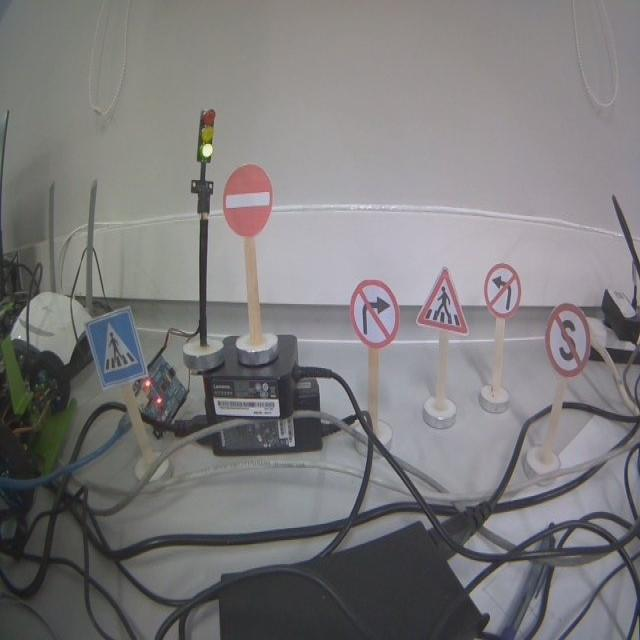Dilarang Belok Kanan: (349, 279, 399, 348)
Dilarang Belok Kiri: (484, 263, 522, 316)
Dilarang Masuk: (222, 164, 273, 237)
Lampu Hijau: (196, 108, 215, 163)
Rambu Berhenti: (544, 303, 591, 377)
Rambu Penyebrangan: (84, 305, 146, 388), (416, 266, 470, 334)
